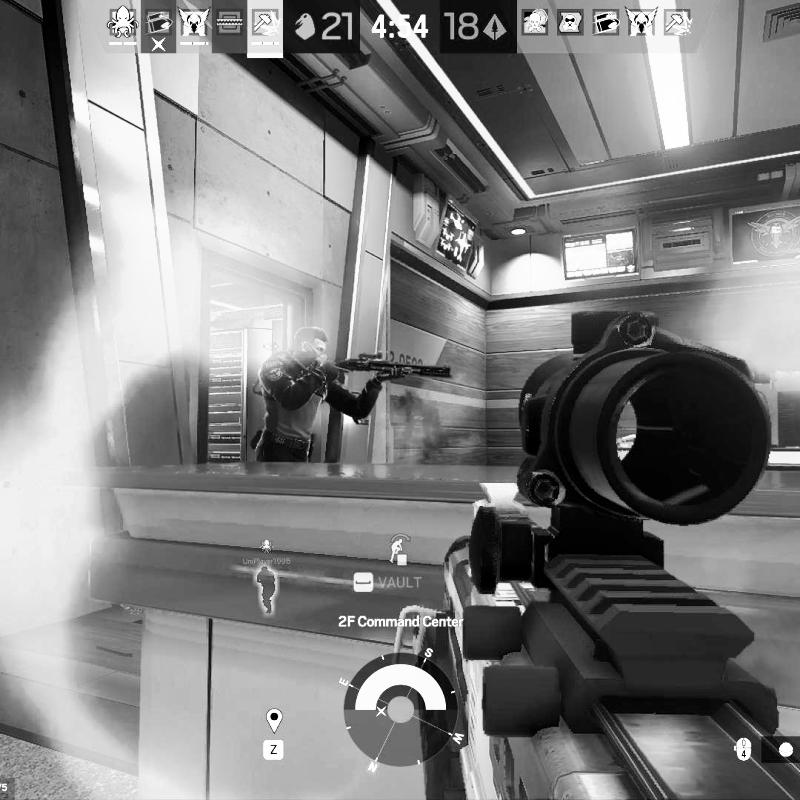Character: (253, 322, 454, 463)
Friend_label: (243, 537, 293, 566)
Head: (287, 325, 329, 362)
